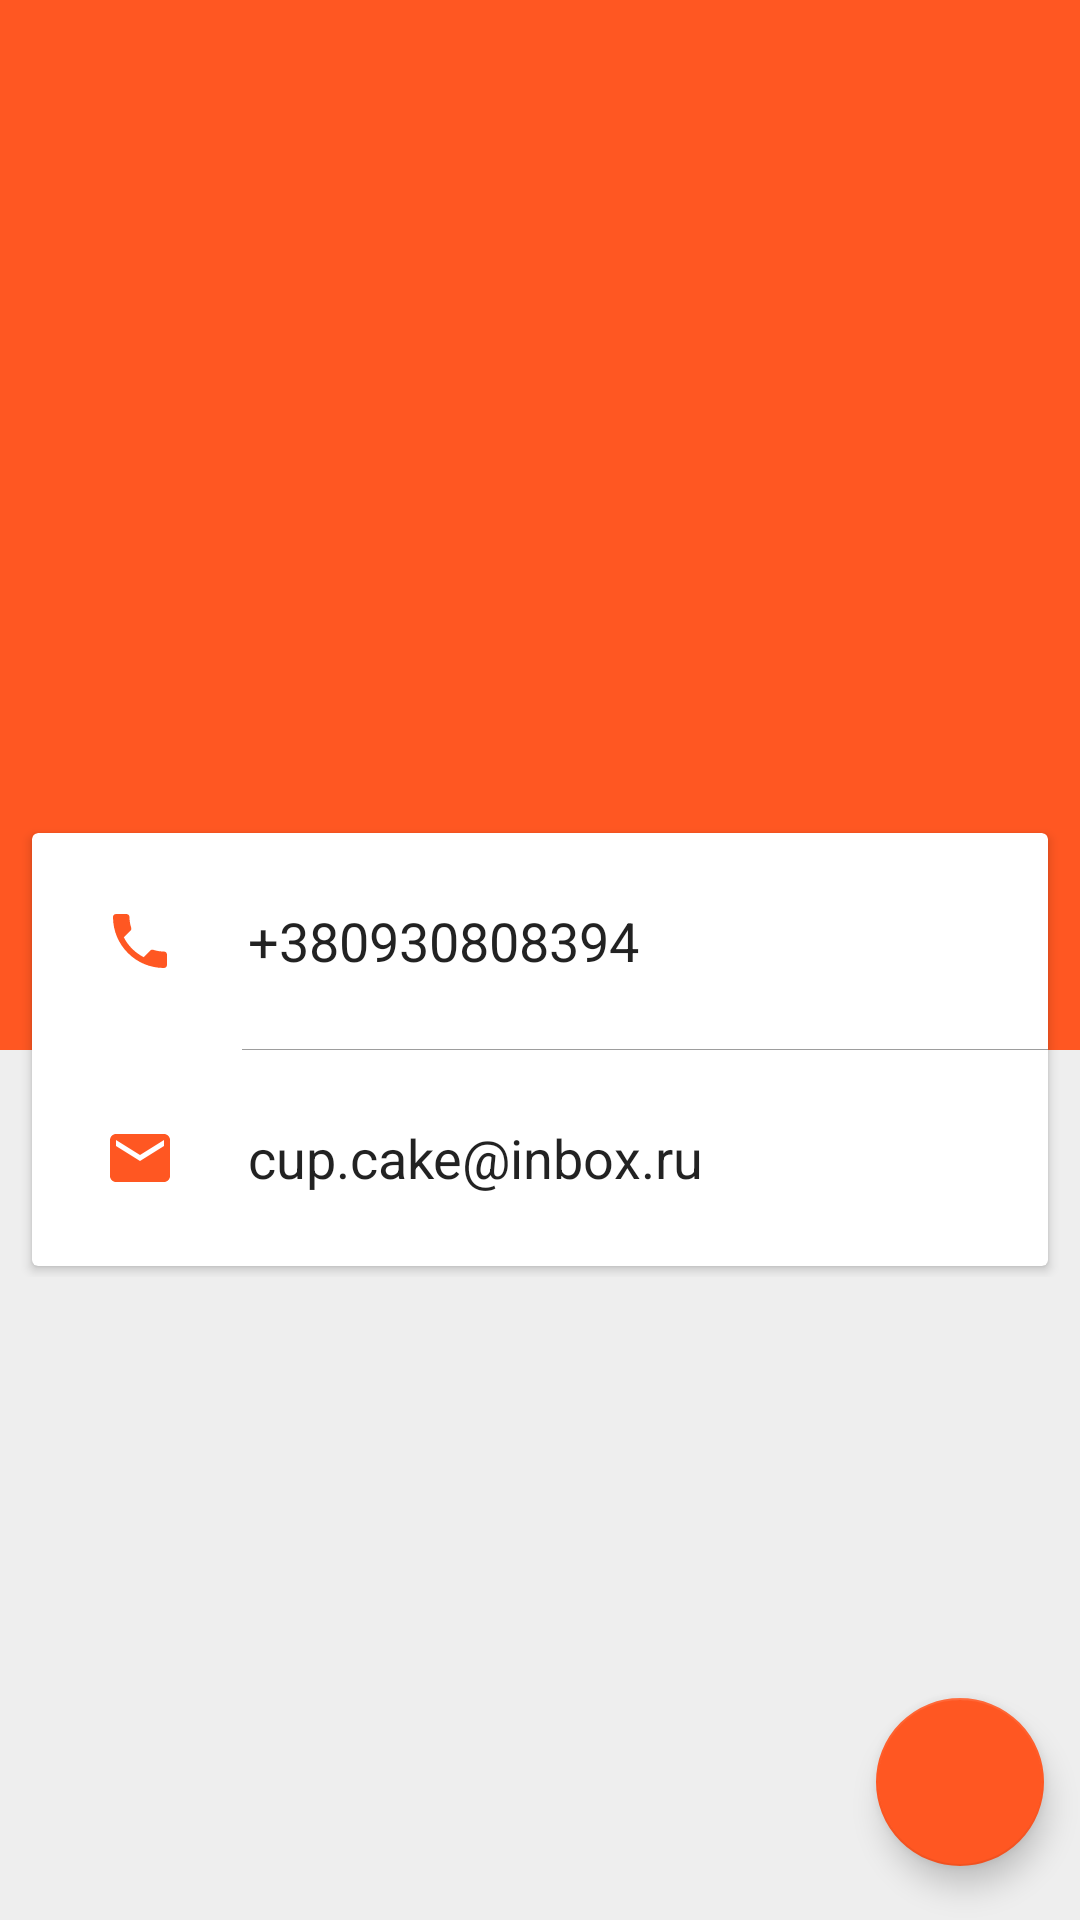

Named icons in this screenshot (1080x1920) and their centers, (x,y):
call: (140,941)
email: (140,1158)
